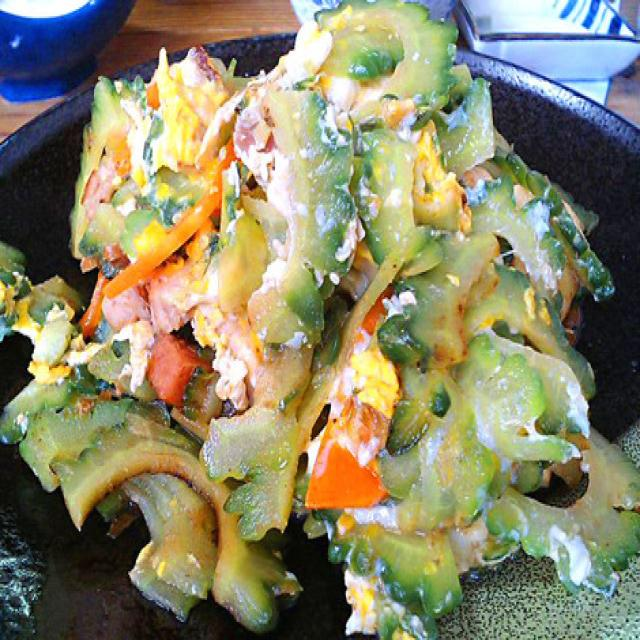熟制海鲜: (0, 0, 640, 636)
